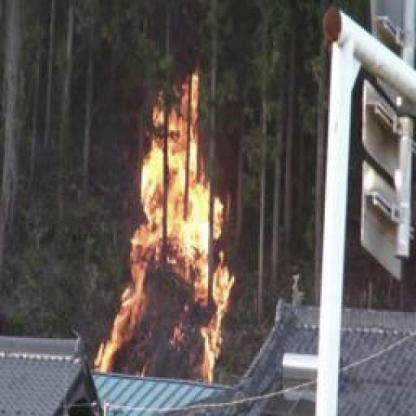fire: (92, 50, 244, 391)
